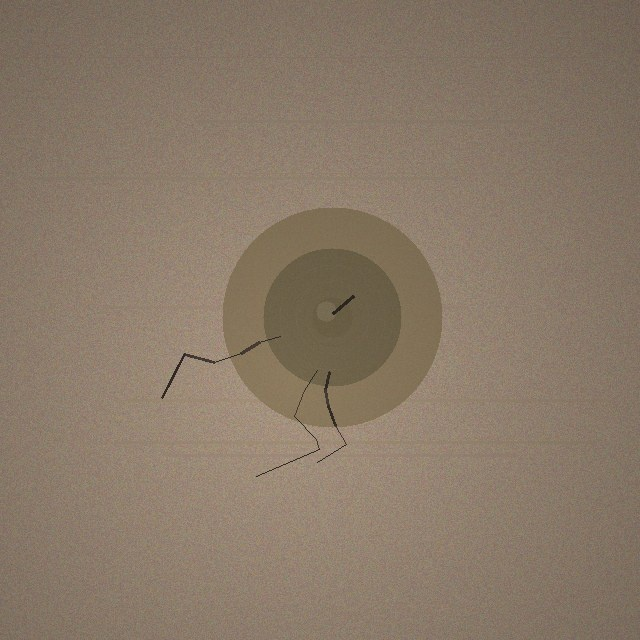crack: (222, 207, 442, 427)
